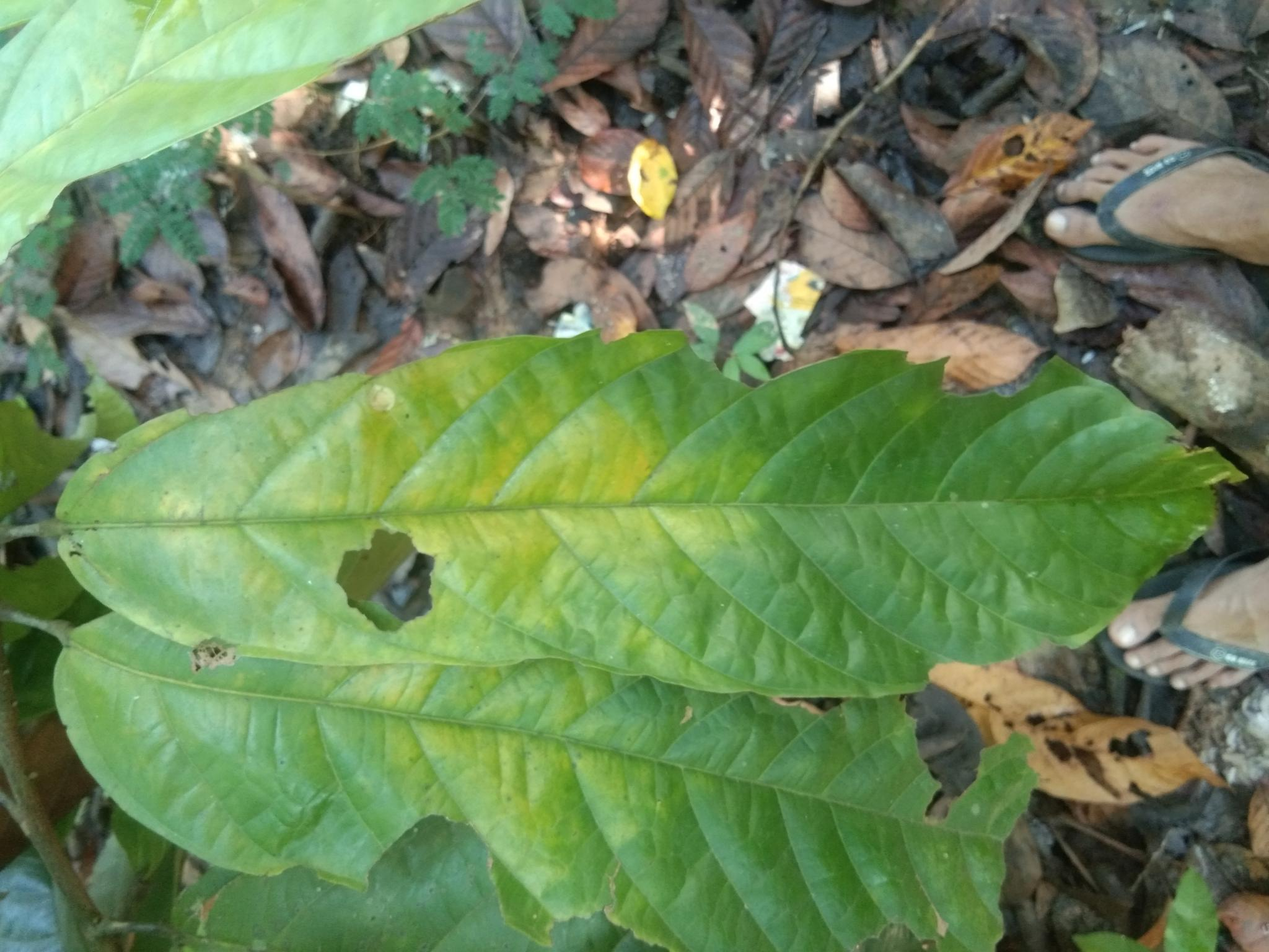Fosforo: (43, 343, 1267, 714)
